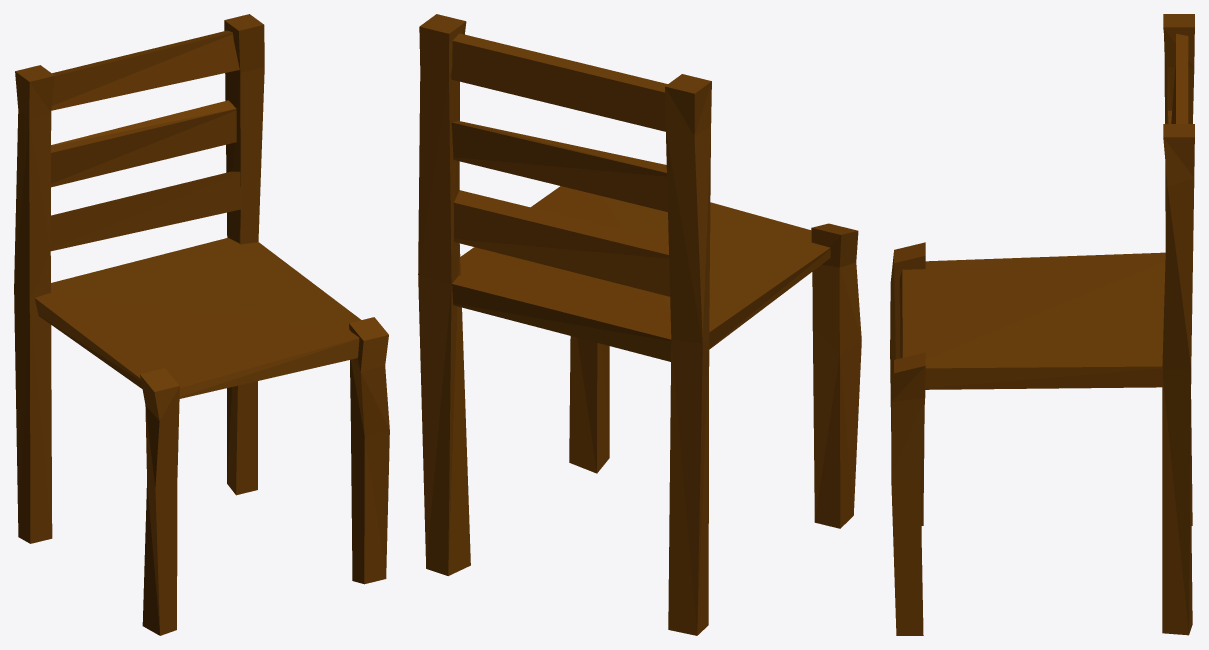
Rendered from chaise de cuisine.fbx.
3 renders of one model, left to right at view 1: azimuth 30°, elevation 25°; view 2: azimuth 150°, elevation 25°; view 3: azimuth 270°, elevation 25°, orthographic. The views are drawn at different scales.
Visible parts, largest first — view 1: Cube.003, Cube.001, Cube; view 2: Cube.003, Cube, Cube.001; view 3: Cube.001, Cube.003, Cube.
Boxes of the visible parts, x1=… form: Cube.003: x1=14, y1=14, x2=389, y2=635; Cube.001: x1=34, y1=238, x2=361, y2=398; Cube: x1=50, y1=30, x2=241, y2=251; Cube.003: x1=418, y1=14, x2=861, y2=635; Cube: x1=451, y1=33, x2=670, y2=296; Cube.001: x1=452, y1=186, x2=830, y2=361; Cube.001: x1=899, y1=252, x2=1165, y2=389; Cube.003: x1=890, y1=14, x2=1194, y2=635; Cube: x1=1168, y1=33, x2=1188, y2=123.
Size of the model in its own units: 222 by 411 by 225.
